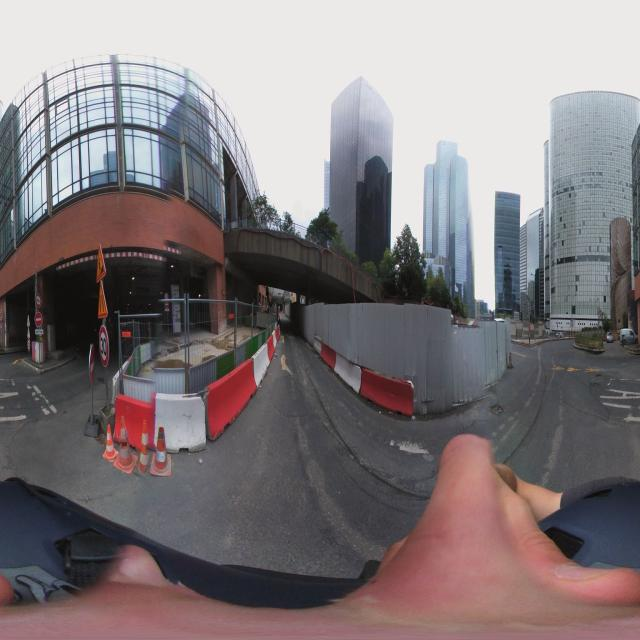car: (620, 326, 638, 345)
